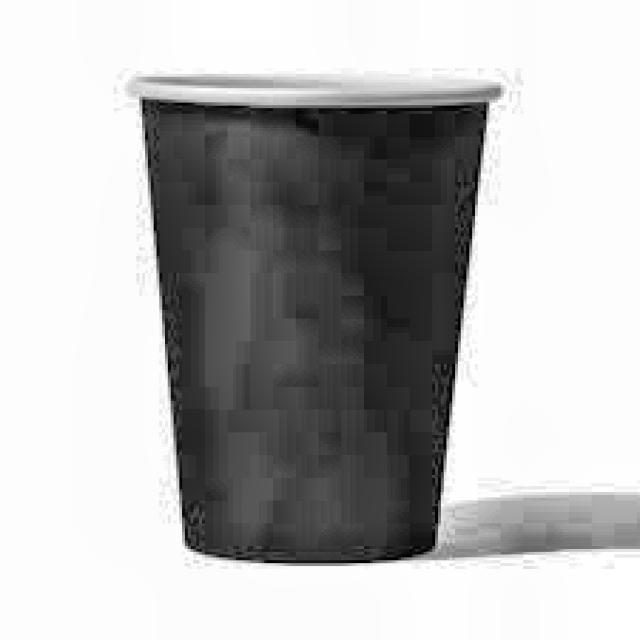Cup: (118, 59, 506, 581)
